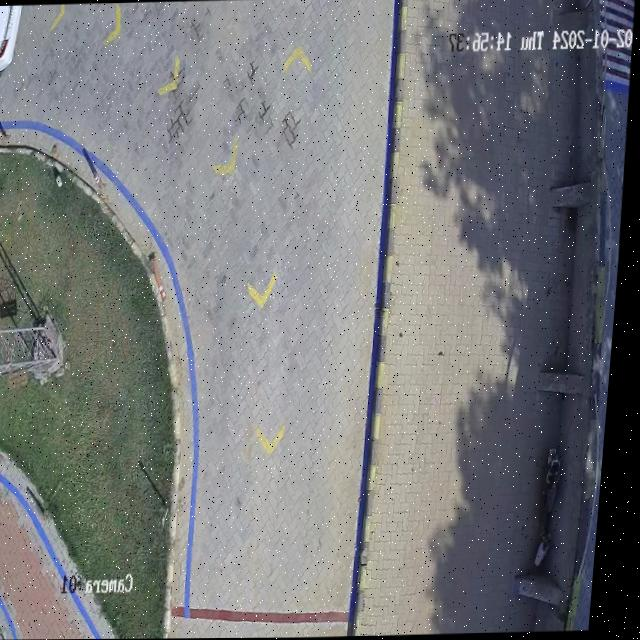car: (0, 5, 23, 73)
